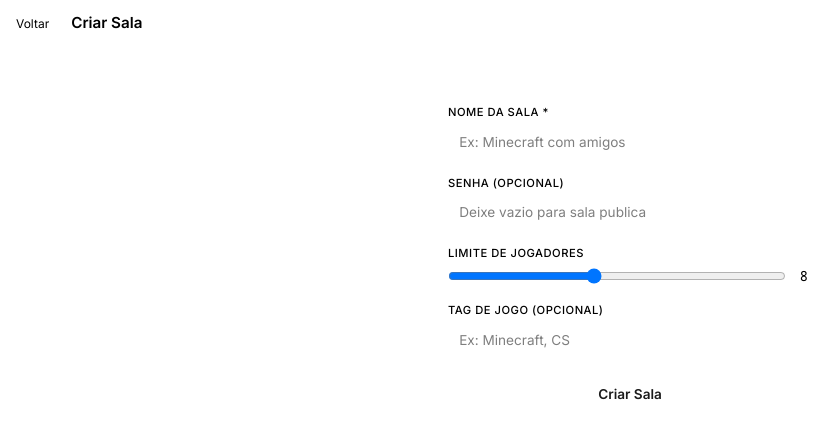
Scenario: CreateRoomPage › shows invite code after successful room creation
This screenshot has width=829, height=428.
In the field with test id "room-name-input": coordinates (630, 142) x1=448 y1=125 x2=812 y2=159, type "Test Room"
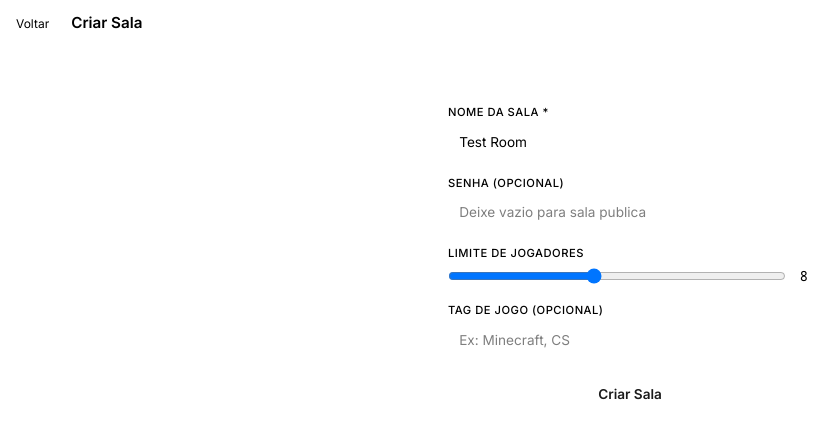
Click the button with test id "submit-btn": coordinates (630, 394) x1=448 y1=376 x2=812 y2=412
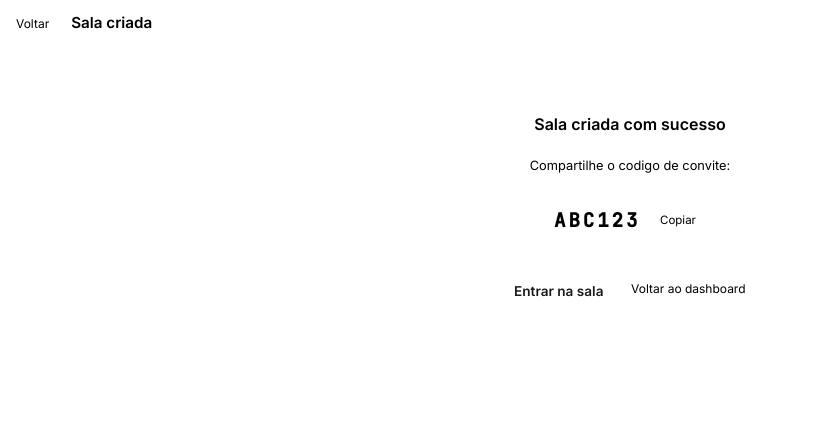
Expected: the text with test id "invite-code" reads "ABC123", x1=554 y1=207 x2=640 y2=233
Expected: the button with test id "copy-btn" is shown, x1=650 y1=209 x2=706 y2=231
